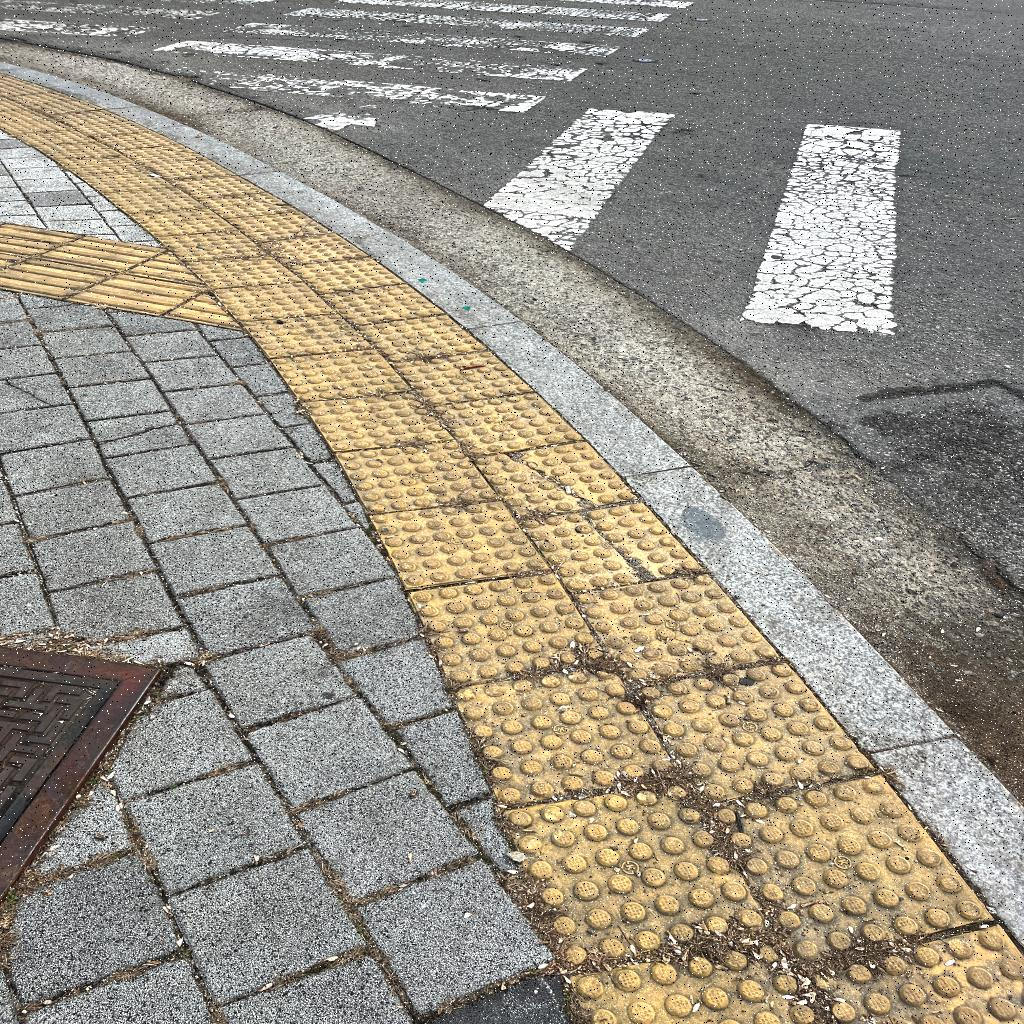Stop block broken: (519, 493, 705, 599), (474, 431, 638, 526)
Stop block normal: (711, 749, 991, 977), (506, 767, 769, 973), (635, 646, 874, 813), (453, 654, 677, 809), (574, 556, 779, 695), (409, 568, 607, 688), (372, 492, 547, 592), (337, 436, 500, 516), (432, 384, 583, 462), (301, 388, 453, 454)
